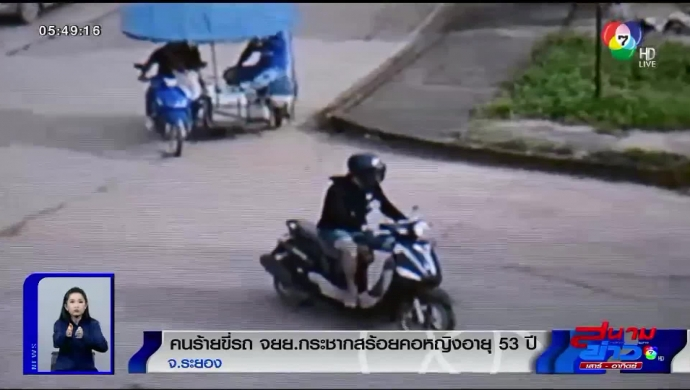Helmet: (331, 145, 400, 189)
motorcycle: (261, 210, 474, 325), (127, 63, 206, 169)
